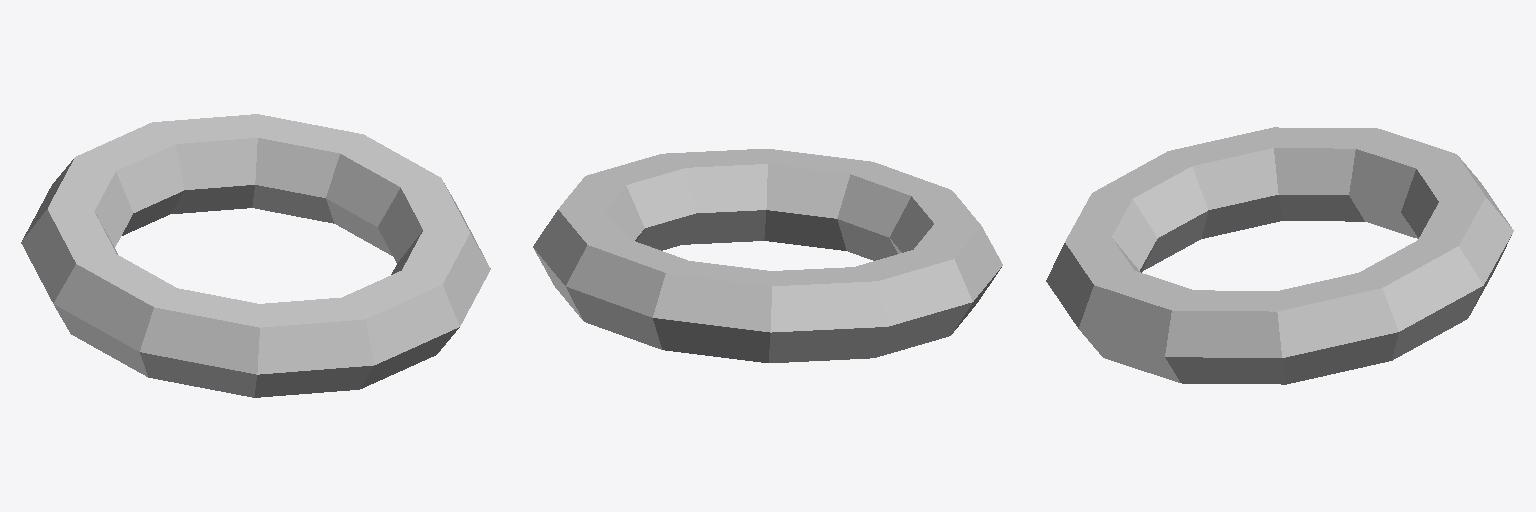
The model's file is halo.obj.
The picture shows the model from 3 angles: view 1: azimuth 30°, elevation 25°; view 2: azimuth 150°, elevation 25°; view 3: azimuth 270°, elevation 25°; orthographic projection.
Parts seen in each view (by area): view 1: Torus; view 2: Torus; view 3: Torus.
Boxes of the visible parts, box(x1,y1,x2,y2) form: Torus: box(21, 114, 490, 397); Torus: box(533, 149, 1002, 362); Torus: box(1046, 127, 1513, 384).
Size of the model in its own units: 0.5815 by 0.1595 by 0.5778.